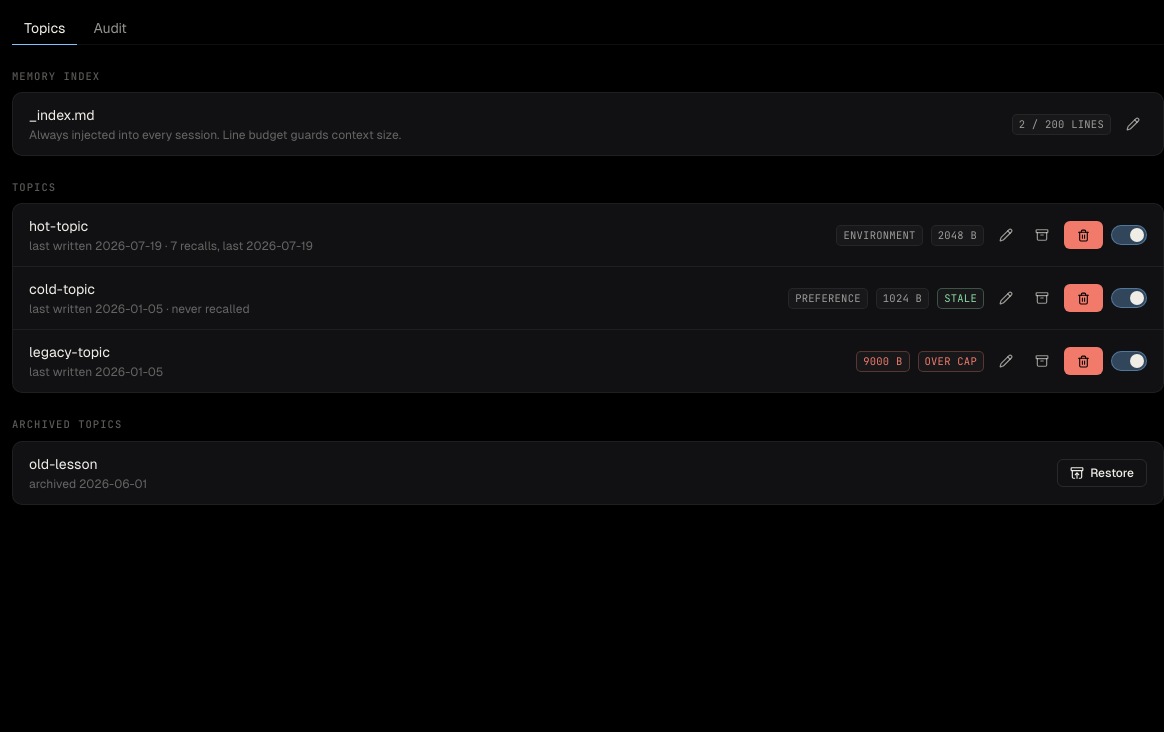
Test case: MemorySettings usage + hygiene › distinguishes an archive from a restore of the same topic in the audit trail
Click the tab "Audit": (110, 28) top-left (82, 12), bottom-right (139, 45)
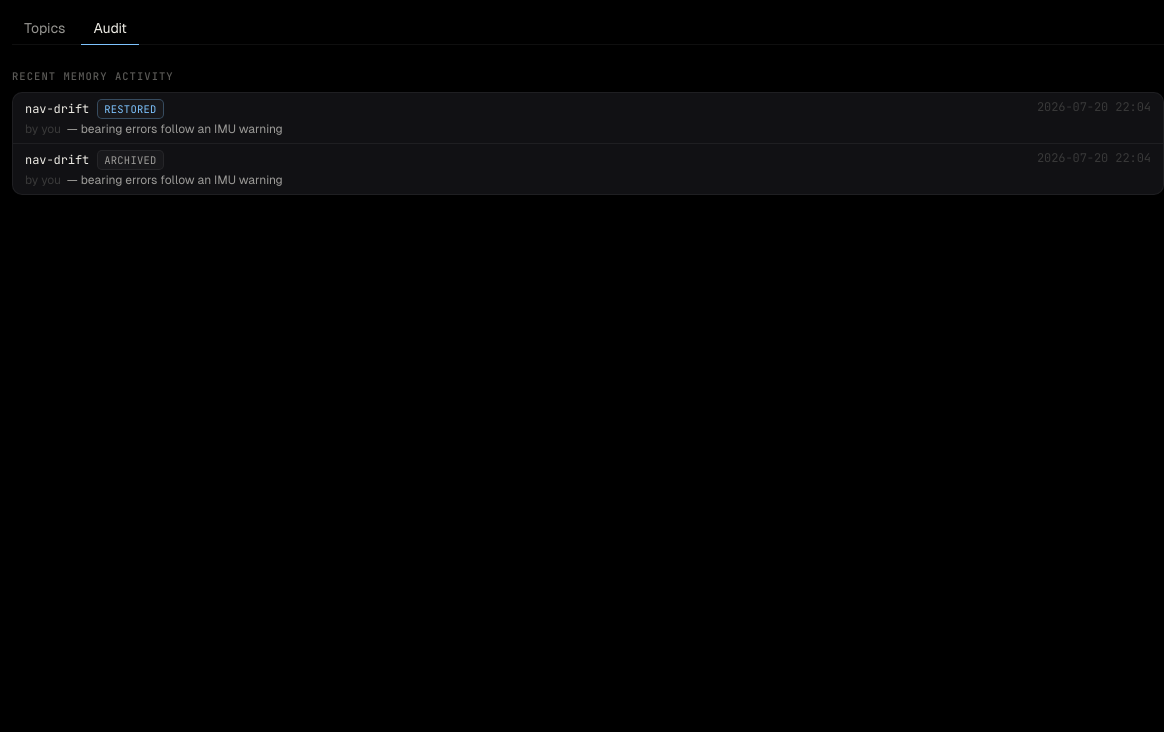
Expected: the text "archived" is shown, top-left (97, 150), bottom-right (164, 170)
Expected: the text "restored" is shown, top-left (97, 99), bottom-right (164, 119)
